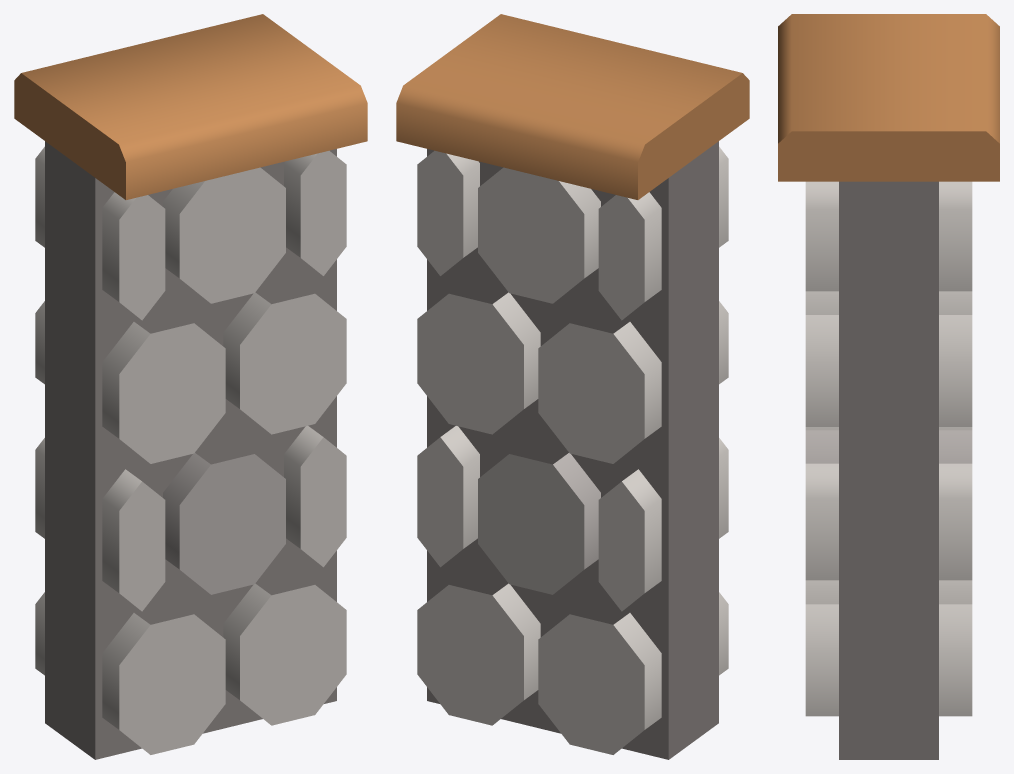
Rendered from zoo_wall_1m.glb.
3 views of the same model, side by side, from view 1: azimuth 30°, elevation 25°; view 2: azimuth 150°, elevation 25°; view 3: azimuth 270°, elevation 25° (orthographic).
Visible parts, largest first — view 1: zoo_wall_1m; view 2: zoo_wall_1m; view 3: zoo_wall_1m.
Part boxes in pixels (x1,y1,x2,y2): zoo_wall_1m: (14,14,367,759); zoo_wall_1m: (396,14,749,759); zoo_wall_1m: (778,14,999,759).
Size of the model in its own units: 1 by 2.5 by 0.8.
1 material, 1 textured.
